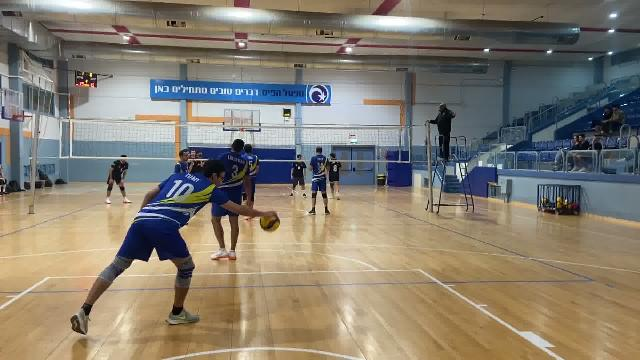ball: (258, 207, 284, 232)
